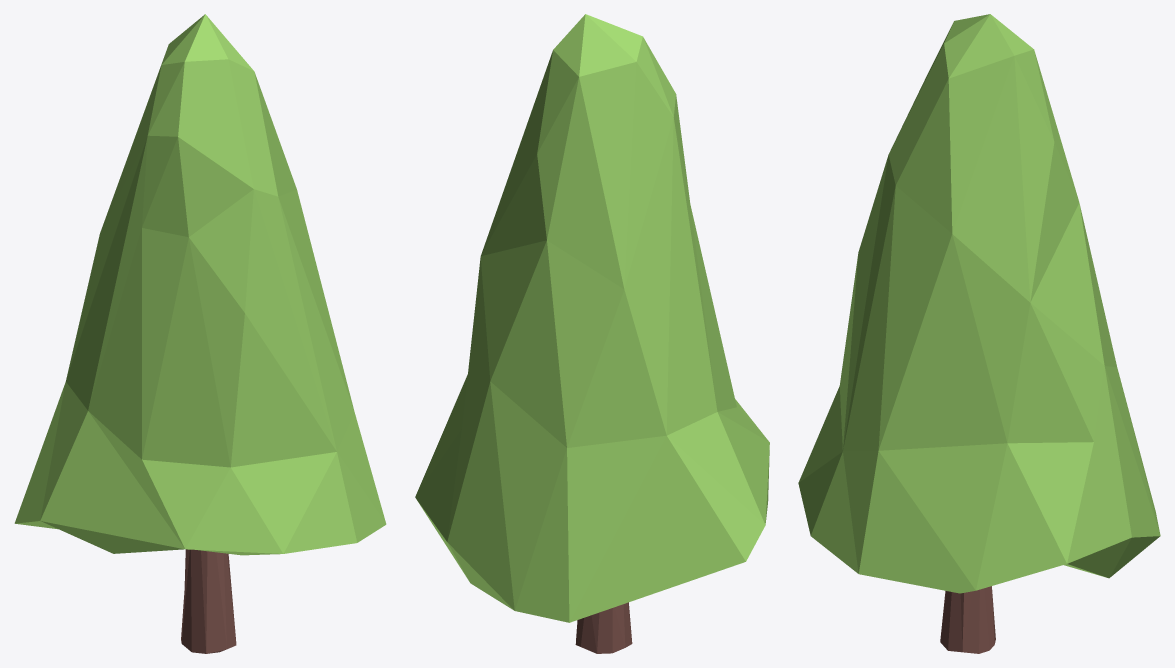
The model's file is tree-conical.glb.
3 renders of one model, left to right at view 1: azimuth 30°, elevation 25°; view 2: azimuth 150°, elevation 25°; view 3: azimuth 270°, elevation 25°, orthographic. The views are drawn at different scales.
Parts seen in each view (by area): view 1: leaves, trunk; view 2: leaves, trunk; view 3: leaves, trunk.
Part boxes in pixels (left/top/right/bottom): leaves: left=14, top=14, right=386, bottom=555; trunk: left=181, top=549, right=236, bottom=653; leaves: left=415, top=14, right=769, bottom=622; trunk: left=575, top=602, right=632, bottom=653; leaves: left=798, top=14, right=1160, bottom=593; trunk: left=940, top=586, right=995, bottom=653.
Size of the model in its own units: 4.83 by 9.08 by 4.7.
